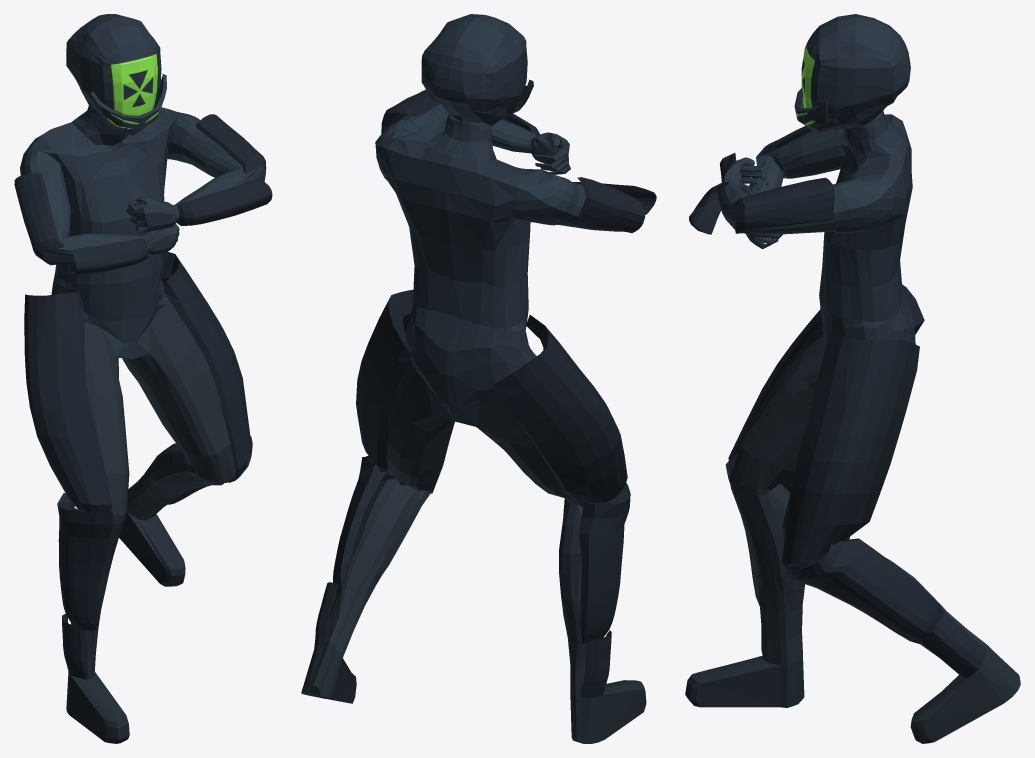
Rendered from Bastion_WB_000020.obj.
3 renders of one model, left to right at view 1: azimuth 30°, elevation 25°; view 2: azimuth 150°, elevation 25°; view 3: azimuth 270°, elevation 25°, orthographic. The views are drawn at different scales.
Parts seen in each view (by area): view 1: Cube.002; view 2: Cube.002; view 3: Cube.002.
Boxes of the visible parts, x1,y1,x2,y2 form: Cube.002: [14, 14, 272, 743]; Cube.002: [301, 14, 656, 743]; Cube.002: [685, 14, 1020, 743].
Size of the model in its own units: 1.4 by 3.7 by 1.56.
